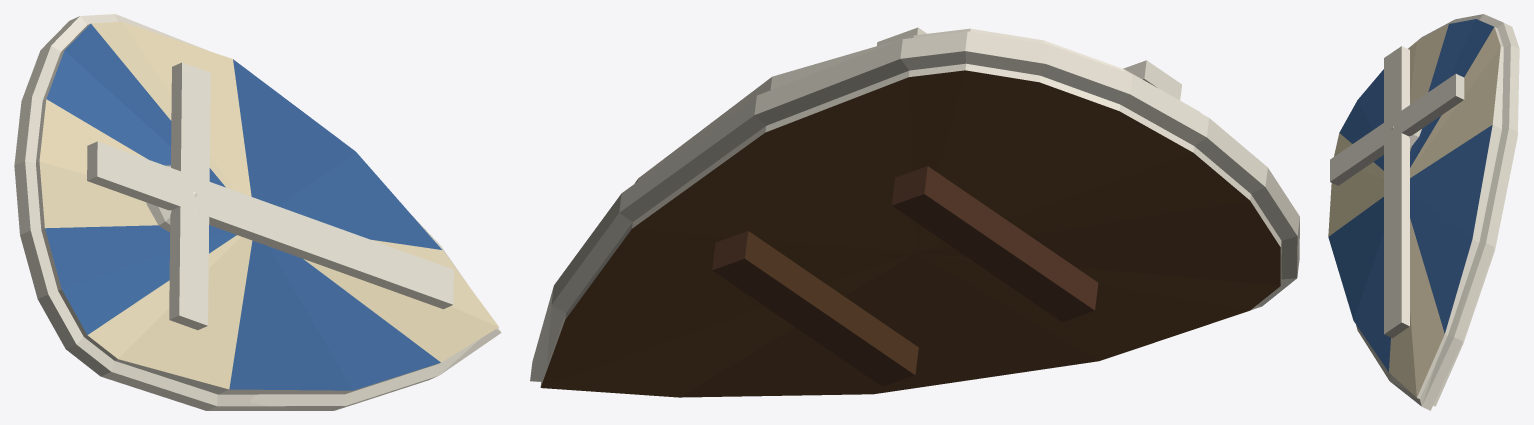
The model's file is armor_shield_kite.glb.
3 views of the same model, side by side, from view 1: azimuth 30°, elevation 25°; view 2: azimuth 150°, elevation 25°; view 3: azimuth 270°, elevation 25° (orthographic). The views are drawn at different scales.
Parts seen in each view (by area): view 1: armor_shield_kite; view 2: armor_shield_kite; view 3: armor_shield_kite.
Boxes of the visible parts, x1,y1,x2,y2 form: armor_shield_kite: (14, 14, 501, 410); armor_shield_kite: (530, 27, 1299, 397); armor_shield_kite: (1328, 14, 1519, 410).
Bounding box in the file's own units: 0.7554 × 0.5429 × 0.3517.
